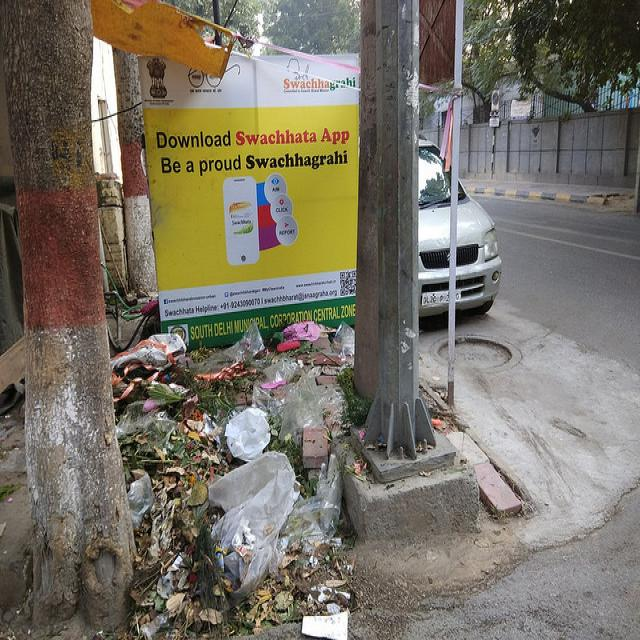garbage: (105, 338, 389, 640)
